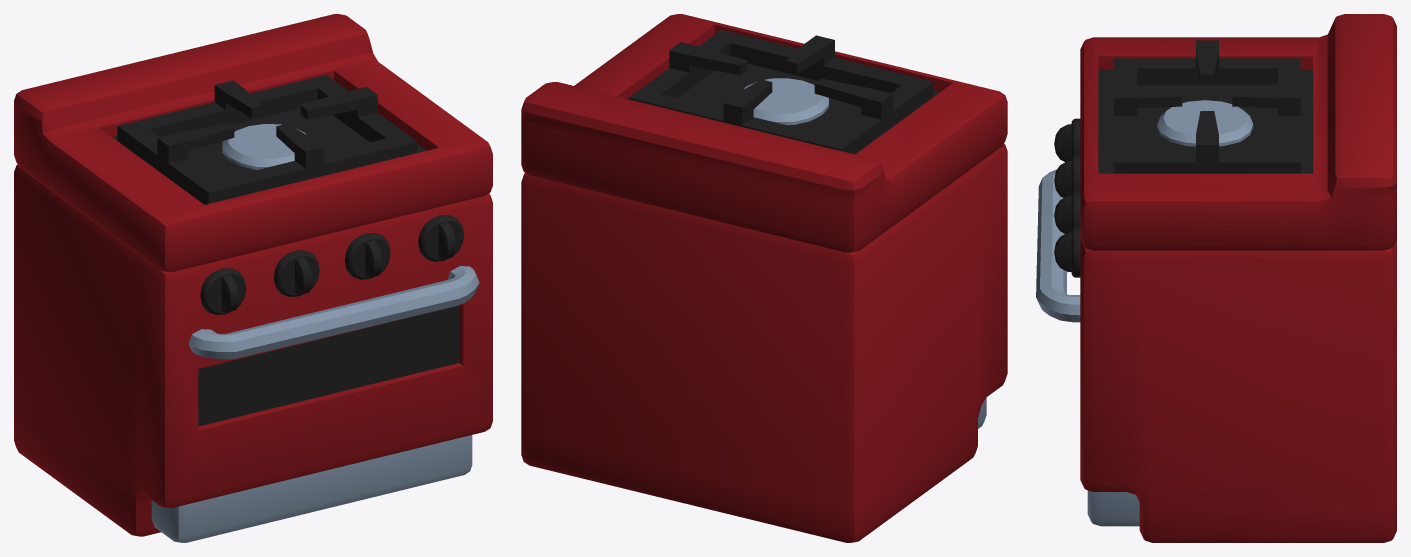
The model's file is cc0-oven-lod0.glb.
3 views of the same model, side by side, from view 1: azimuth 30°, elevation 25°; view 2: azimuth 150°, elevation 25°; view 3: azimuth 270°, elevation 25° (orthographic). The views are drawn at different scales.
Visible parts, largest first — view 1: part_0; view 2: part_0; view 3: part_0.
Boxes of the visible parts, box(x1,y1,x2,y2) form: part_0: box(14, 14, 492, 542); part_0: box(521, 14, 1007, 542); part_0: box(1036, 14, 1396, 542).
Size of the model in its own units: 2.14 by 2.23 by 1.96.
Materials: 1 (1 with a texture image).
